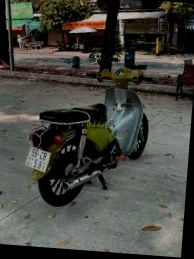Bien-so: (24, 158, 55, 190)
